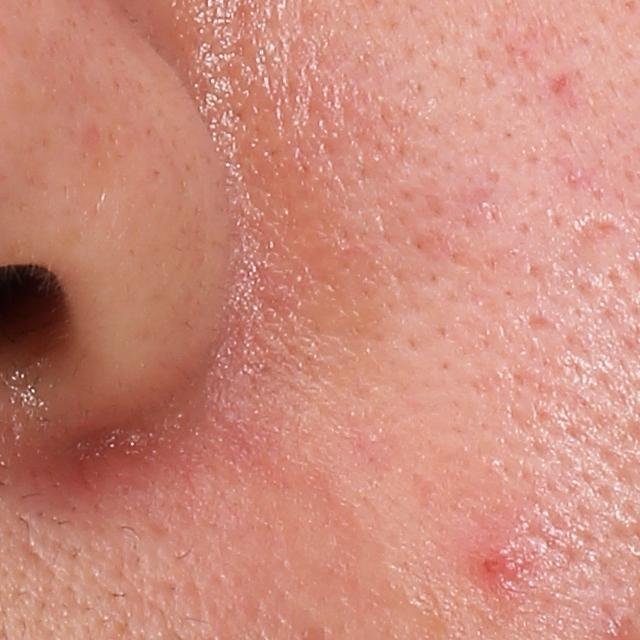atrophic_scar: (567, 216, 629, 252), (527, 313, 557, 331)
papule: (478, 540, 527, 585)
